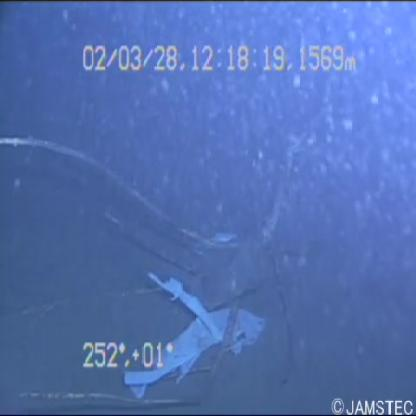Rác: (113, 232, 274, 407)
